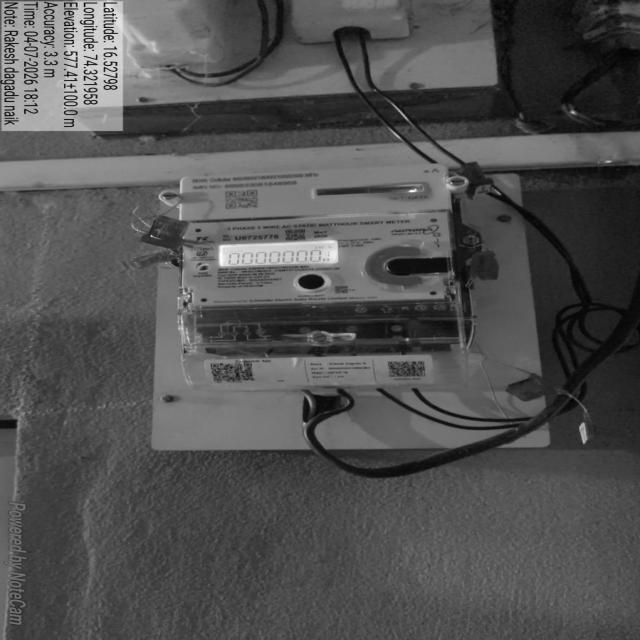meter: (180, 167, 468, 307)
